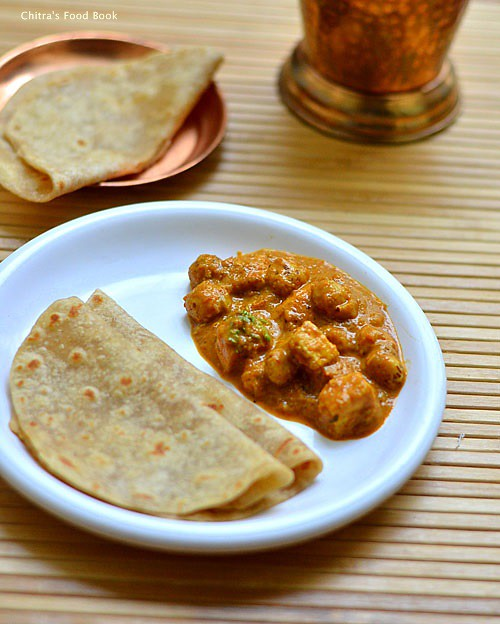curry: (180, 248, 413, 433)
roti: (9, 287, 307, 517), (12, 37, 219, 192)
